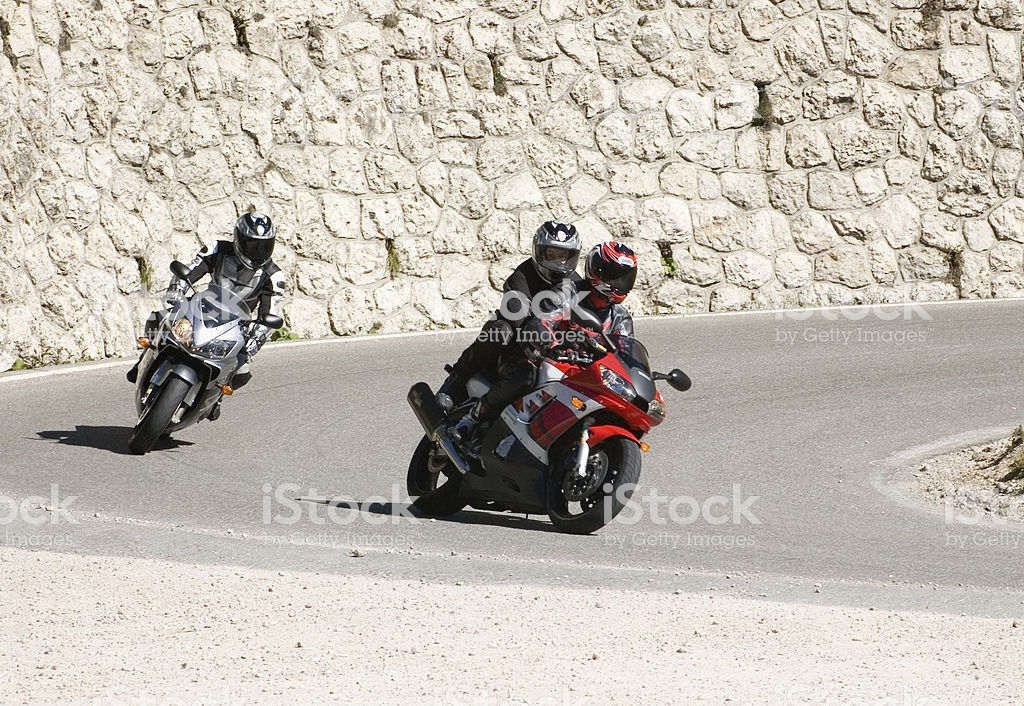helmet: (586, 240, 639, 311), (234, 213, 283, 269), (528, 221, 579, 270)
